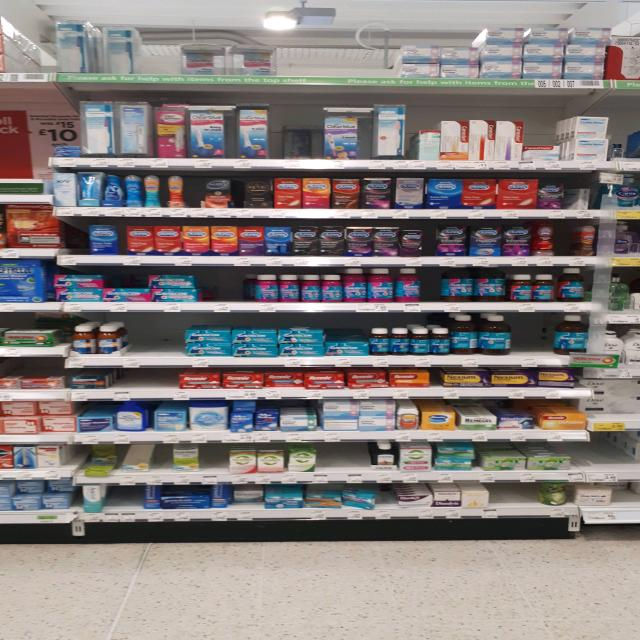void: (281, 34, 396, 76), (130, 315, 178, 357), (144, 28, 177, 73), (574, 444, 633, 468), (521, 317, 551, 355), (322, 446, 364, 471), (206, 272, 239, 302), (115, 374, 173, 389), (492, 486, 528, 503), (112, 489, 136, 510), (618, 486, 639, 505)
